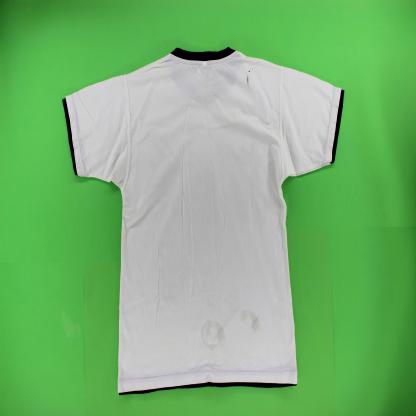stain: (199, 317, 226, 357), (237, 307, 262, 335), (245, 74, 250, 88), (247, 68, 252, 73)
